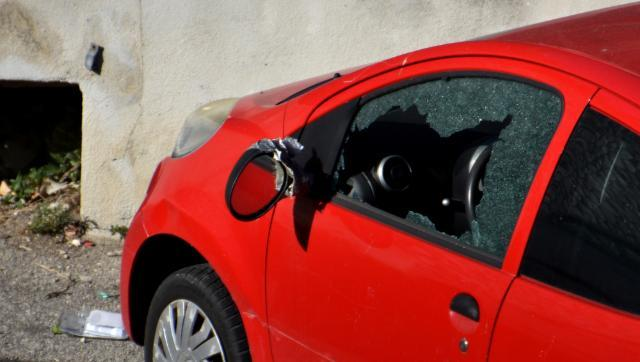glass shatter: (331, 77, 562, 258)
